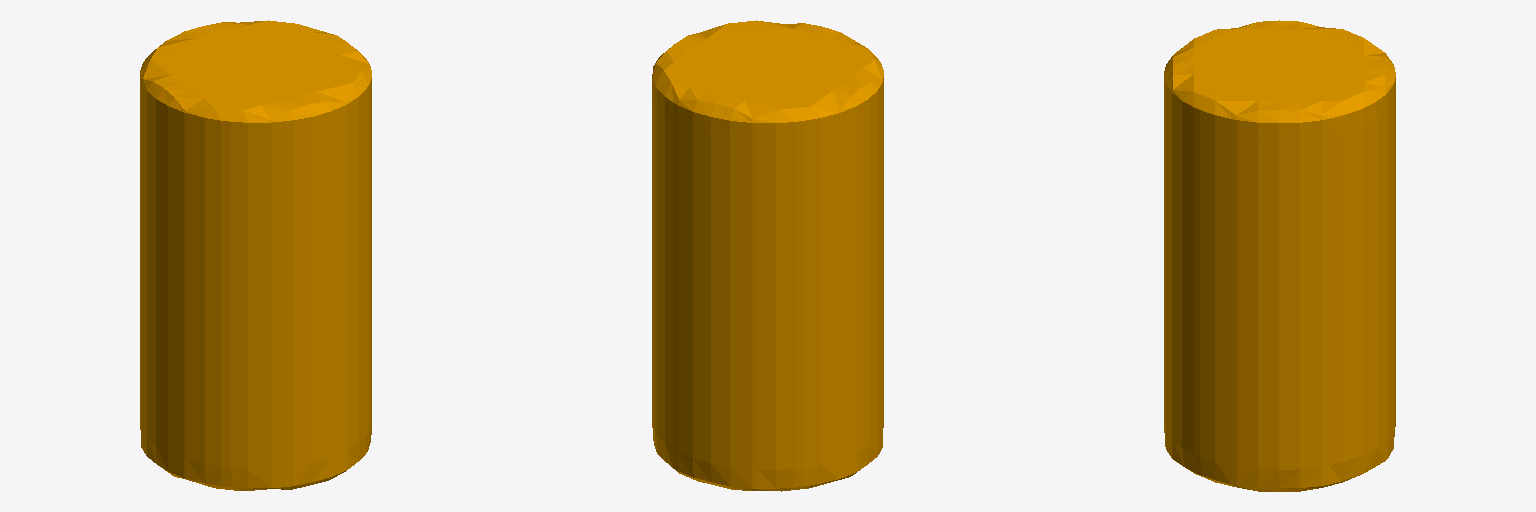
robot.urdf — cylinder_../../meshes/cylinders/cylinder_22.stl:
<?xml version="1.0" encoding="utf-8"?>  <robot name="cylinder_../../meshes/cylinders/cylinder_22.stl">   <link name="cylinder_../../meshes/cylinders/cylinder_22.stl">     <visual>       <geometry>         <mesh filename="../meshes/cylinders/cylinder_22.stl" scale="1 1 1"/>       </geometry>     </visual>     <collision>       <geometry>         <mesh filename="../meshes/cylinders/cylinder_22.stl" scale="1 1 1"/>       </geometry>     </collision>     <inertial>        <origin         xyz="0 0 0"         rpy="0 0 0" />       <mass value="0.23044580039747095"/>       <origin rpy="0 0 0" xyz="0 0 0"/>       <inertia ixx="0.00022984518753798585" ixy="-3.2676515981768233e-09" ixz="-2.809336093329177e-08" iyy="0.00022984535843162466" iyz="-2.7339958166585568e-08" izz="8.528869884980478e-05"/>     </inertial>   </link>  </robot>

--- What the picture shows (computed from the rendered views, not written in the file) ---
The picture shows the robot from 3 angles, left to right: view 1: azimuth 30°, elevation 25°; view 2: azimuth 150°, elevation 25°; view 3: azimuth 270°, elevation 25°; orthographic projection.
Model cylinder_../../meshes/cylinders/cylinder_22.stl with 1 links and 0 joints (none), rooted at cylinder_../../meshes/cylinders/cylinder_22.stl, posed all joints at 0.
Visible links, largest first — view 1: cylinder_../../meshes/cylinders/cylinder_22.stl; view 2: cylinder_../../meshes/cylinders/cylinder_22.stl; view 3: cylinder_../../meshes/cylinders/cylinder_22.stl.
Link boxes in pixels (x1,y1,x2,y2): cylinder_../../meshes/cylinders/cylinder_22.stl: (140, 20, 371, 490); cylinder_../../meshes/cylinders/cylinder_22.stl: (652, 20, 883, 491); cylinder_../../meshes/cylinders/cylinder_22.stl: (1164, 20, 1395, 491).
Size in the robot's own frame: 0.0547 by 0.0547 by 0.0992 metres.
Meshes: 1 distinct files referenced, 1 mesh visuals loaded (1 binary STL).